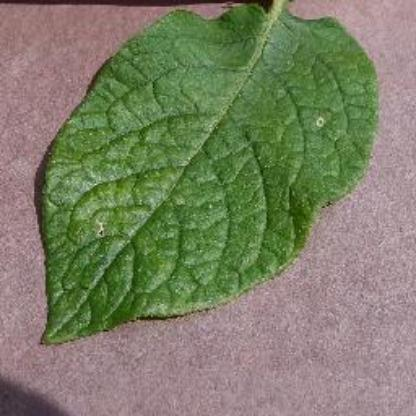Healthy-plant: (29, 3, 379, 352)
